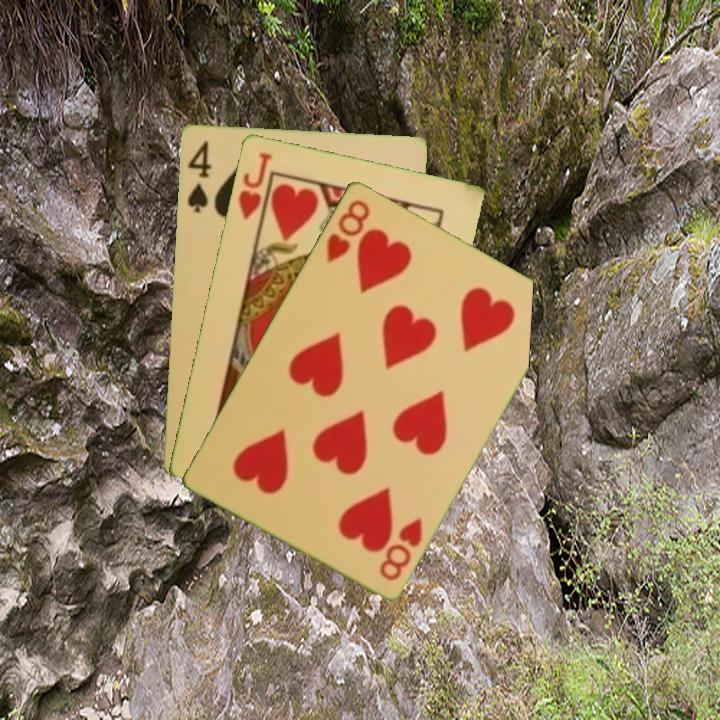4s: (184, 137, 214, 215)
8h: (322, 195, 373, 265), (375, 513, 425, 583)
Jh: (234, 148, 275, 222)
